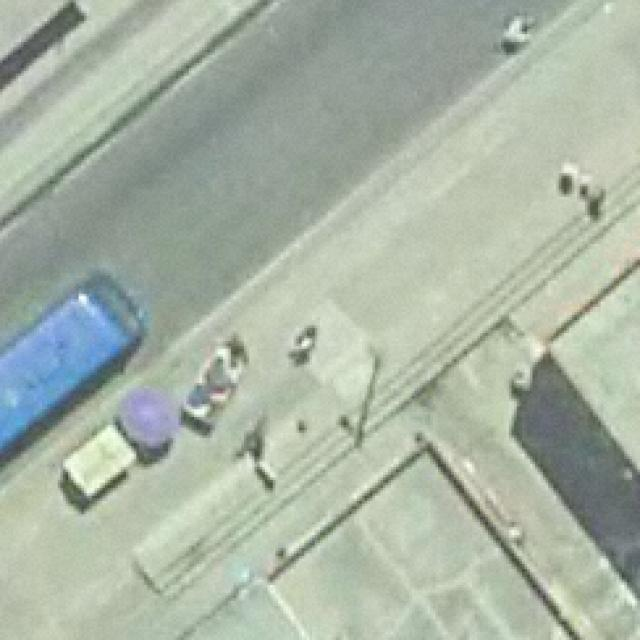vendedor_ambulante: (118, 382, 182, 452)
